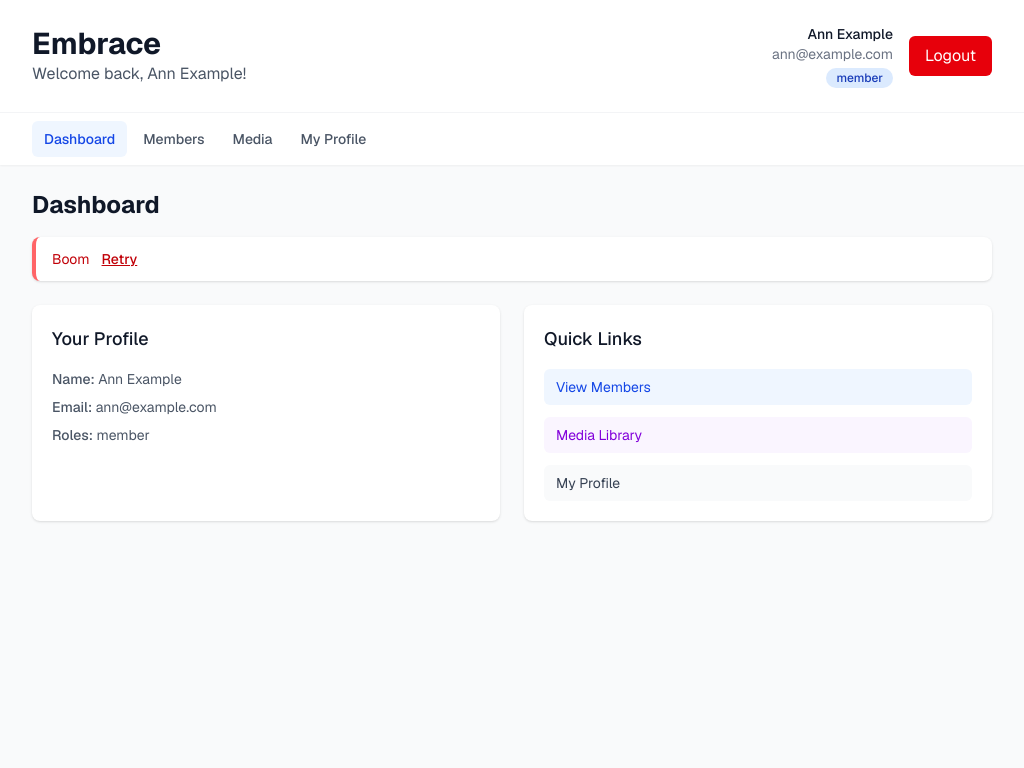
Scenario: dashboard › reports a failed summary with a retry
The width and height of the screenshot is (1024, 768).
Expected: the message "Boom Retry" is shown, [32,237,992,281]
Click the button "Retry": coordinates (119, 259) [102,249,137,269]
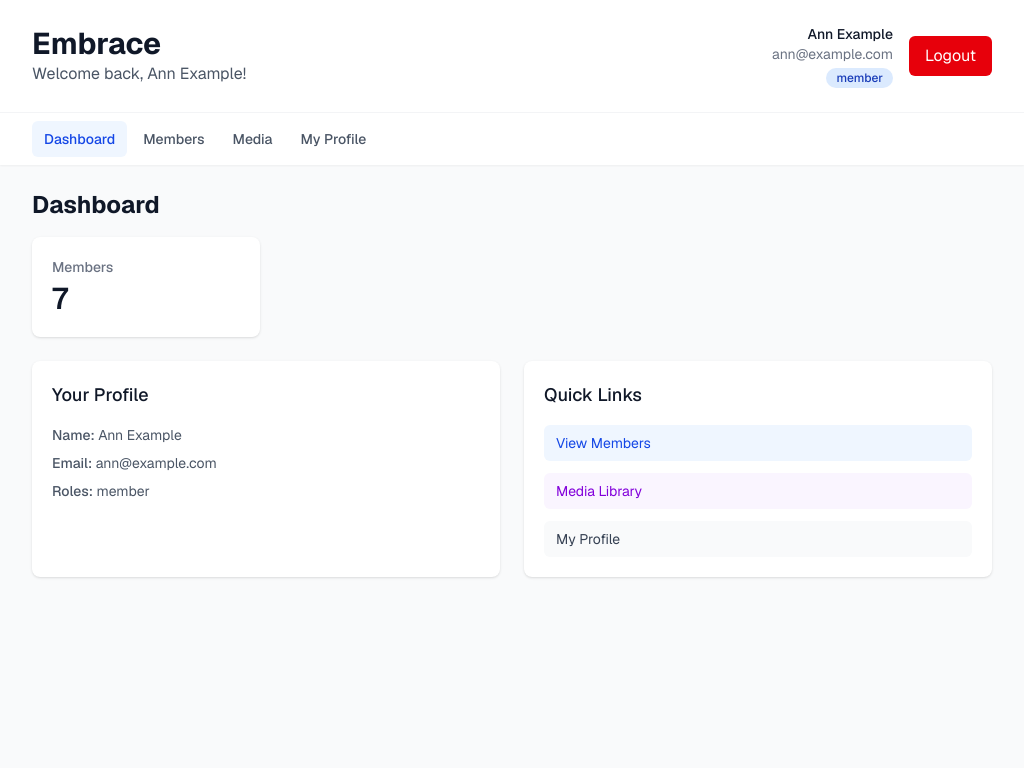
Result: the message "Boom Retry" is gone
